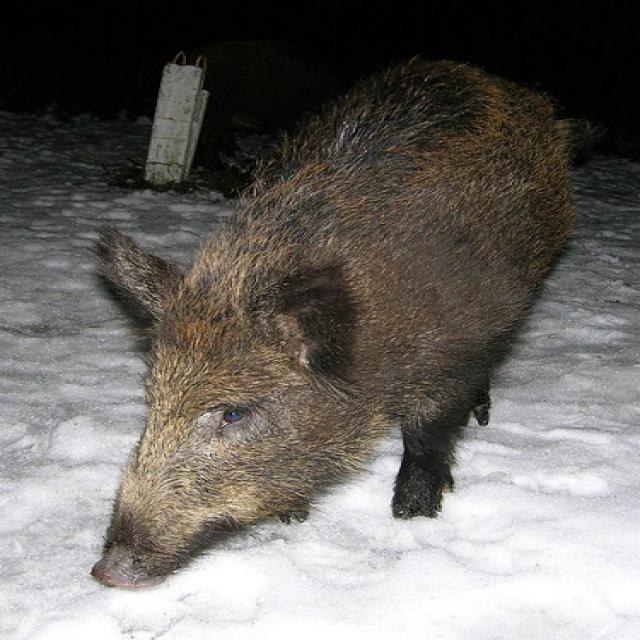boar: (67, 41, 595, 604)
